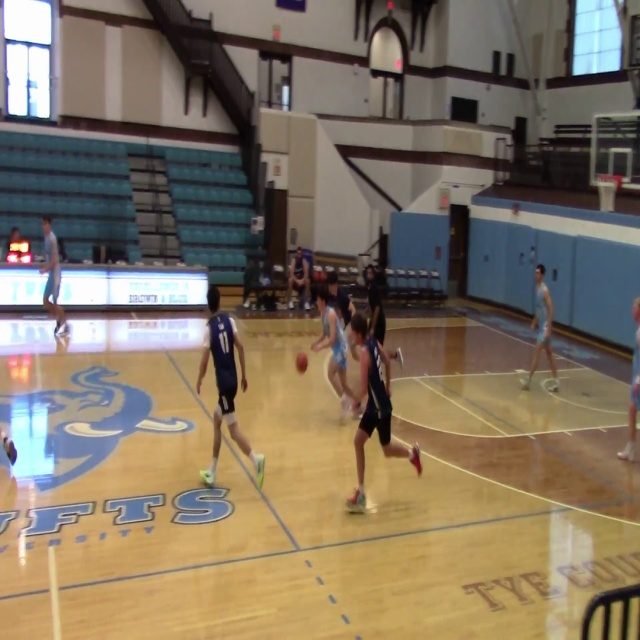Basketball: (295, 352, 307, 373)
